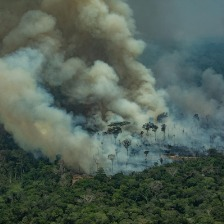incendio: (1, 10, 198, 185)
